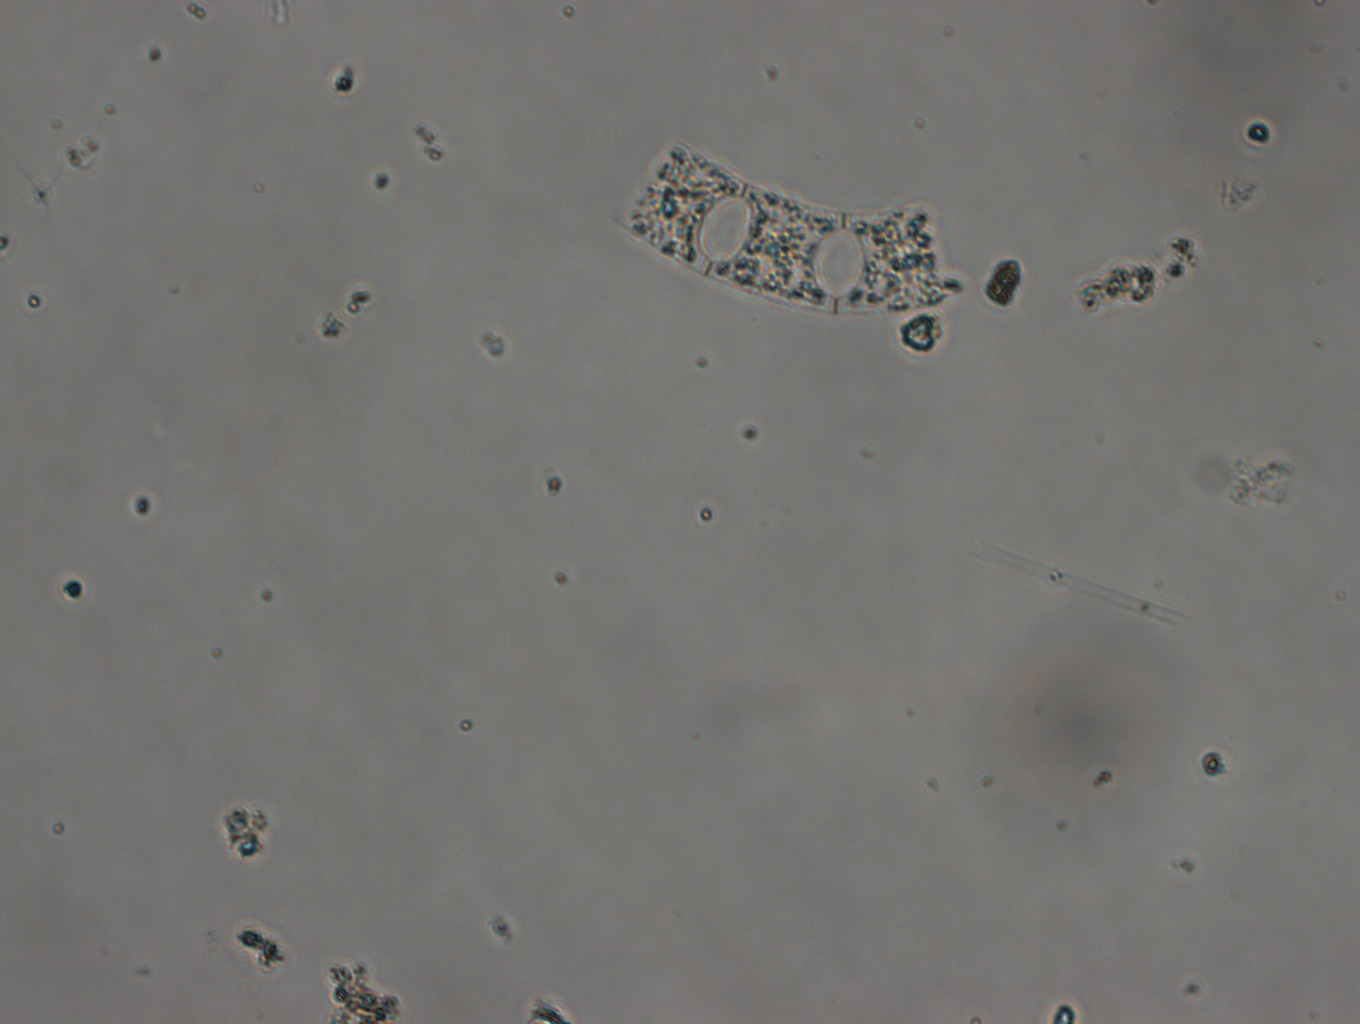eucampia: (619, 126, 973, 322)
